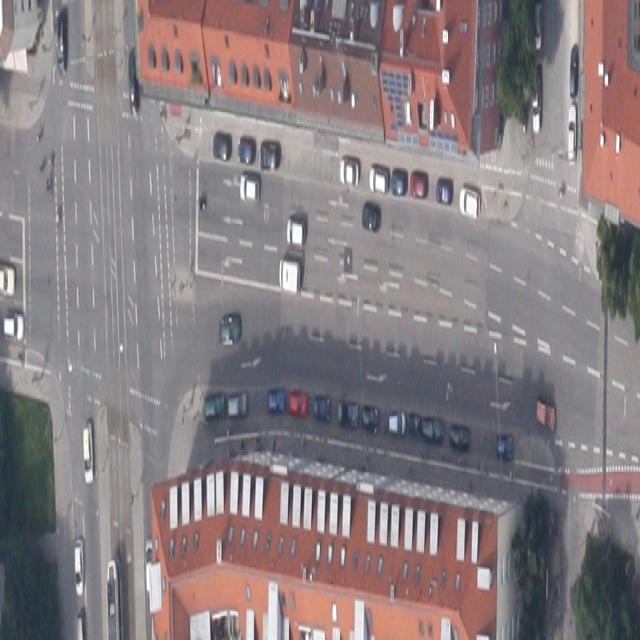UAI: (128, 50, 140, 116), (536, 397, 556, 433), (459, 187, 480, 221), (82, 422, 93, 486), (204, 392, 226, 421), (220, 315, 241, 345), (338, 399, 359, 428), (362, 200, 381, 231), (239, 173, 259, 202), (450, 422, 470, 451), (213, 131, 232, 161), (3, 314, 24, 341), (532, 69, 541, 132), (260, 141, 280, 168), (339, 159, 359, 186), (423, 418, 444, 443), (75, 539, 84, 597), (57, 16, 66, 74), (435, 175, 453, 204), (568, 105, 577, 163), (314, 391, 330, 422), (362, 404, 378, 435), (369, 168, 388, 194), (229, 392, 248, 418), (410, 171, 428, 198), (268, 389, 286, 416), (286, 219, 305, 244), (238, 136, 255, 163), (388, 411, 406, 436), (570, 44, 578, 99), (289, 393, 307, 417), (497, 433, 512, 460), (392, 169, 407, 194), (409, 412, 421, 439), (535, 4, 542, 50)
harvester: (279, 256, 301, 294)
